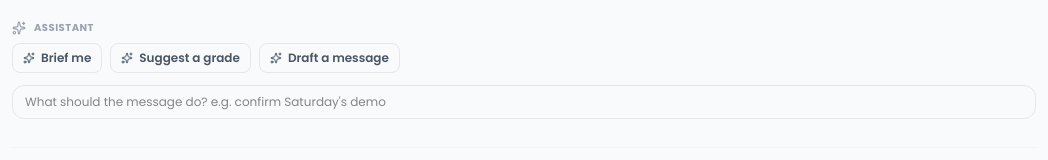
Scenario: Assistant › says what to do when the assistant cannot answer
Click the button "Brief me": (57, 58) [12, 43, 102, 73]
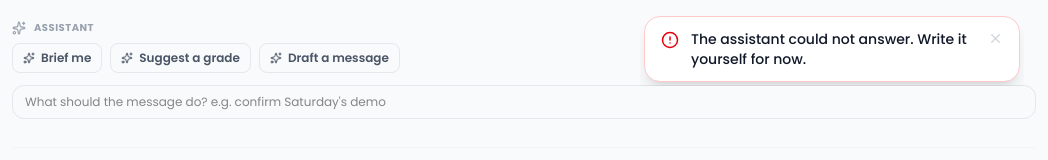
Expected: the text "The assistant could not answer. Write it yourself for now." is shown, [691, 29, 972, 69]
